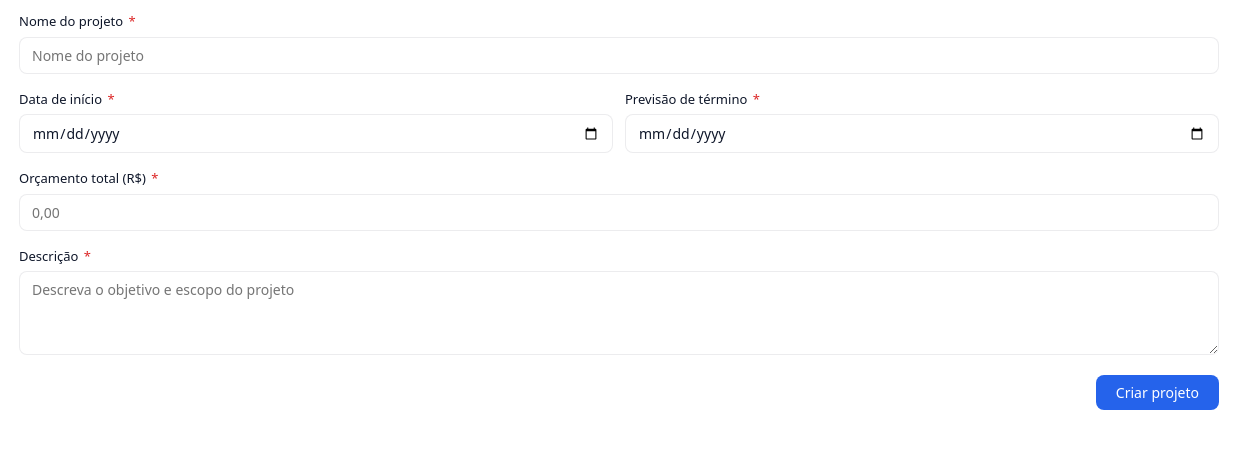
ProjectForm › exibe erro quando a data de término é anterior à data de início
The width and height of the screenshot is (1239, 451).
In the field labelled "Nome do projeto *": x=619, y=55 [19,36,1219,74], type "Projeto Teste"
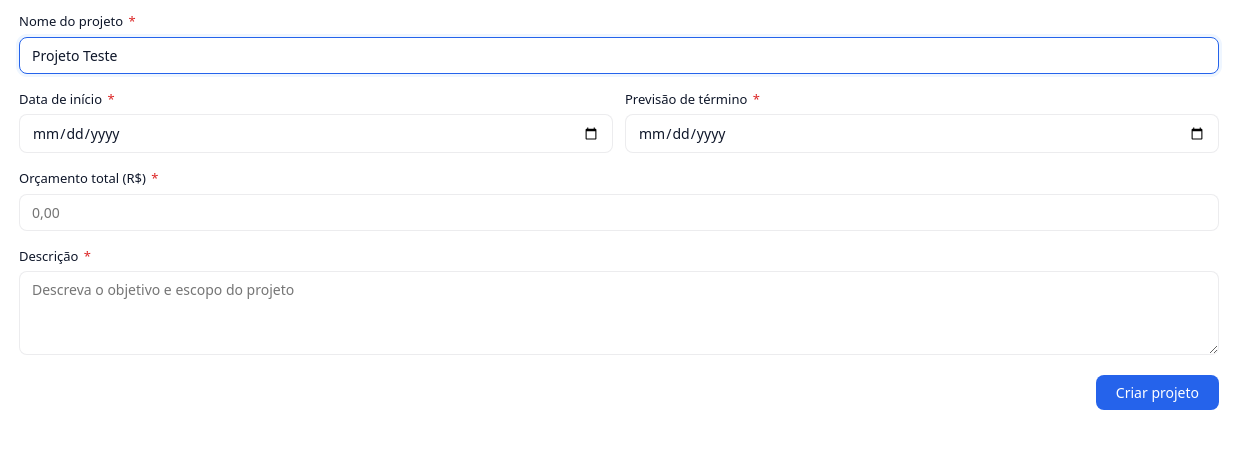
In the date field labelled "Data de início *": x=316, y=134 [19,114,613,153], type "2024-06-01"
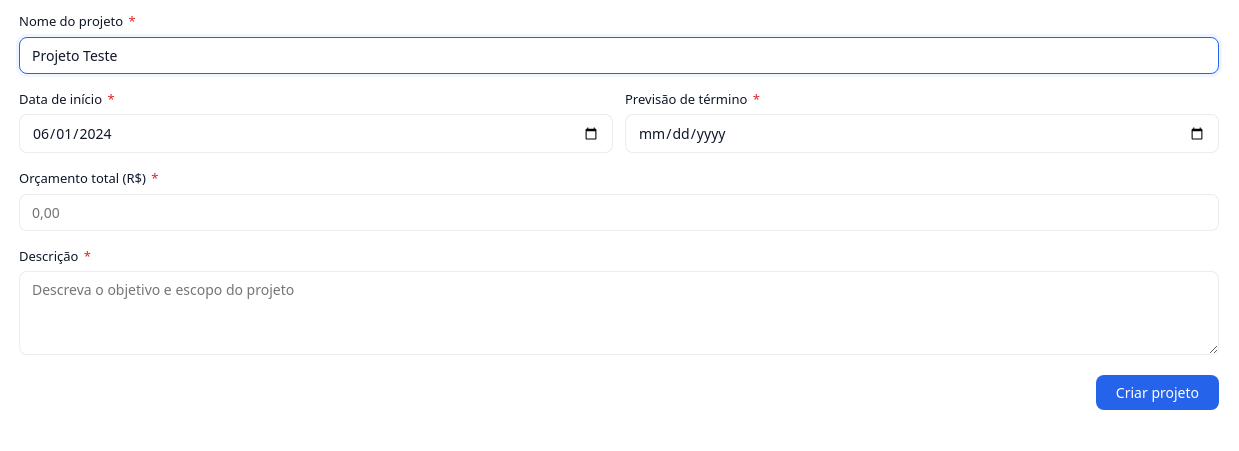
In the date field labelled "Previsão de término *": x=922, y=134 [625,114,1219,153], type "2024-01-01"
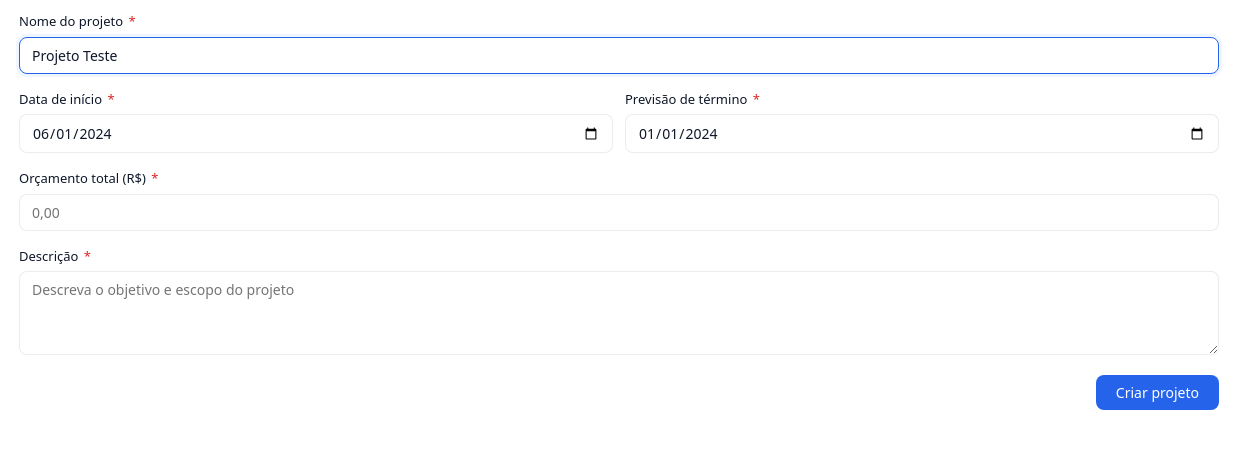
In the number field labelled "Orçamento total (R$) *": x=619, y=212 [19,194,1219,230], type "100000"
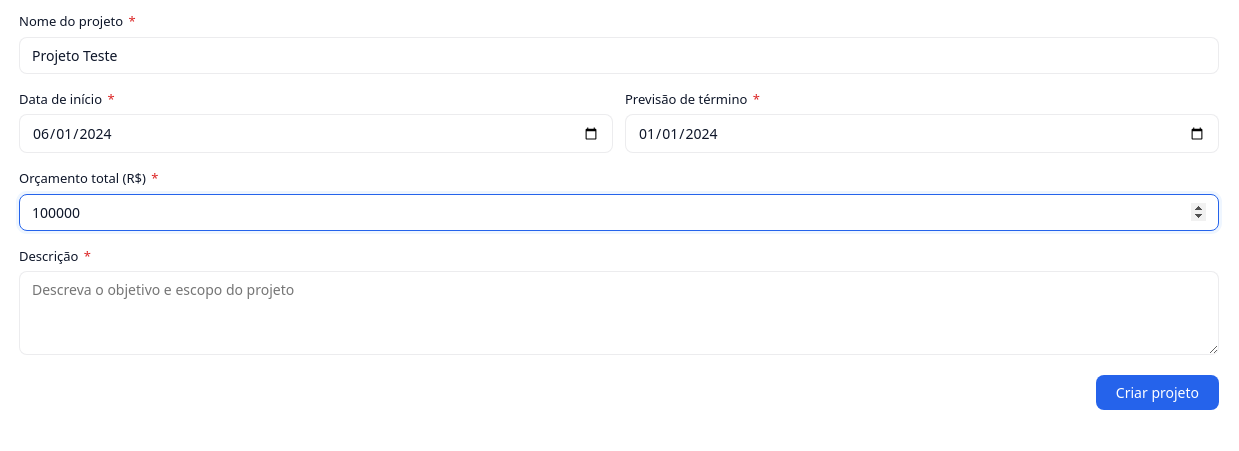
In the text box labelled "Descrição *": x=619, y=313 [19,271,1219,355], type "Descrição válida"
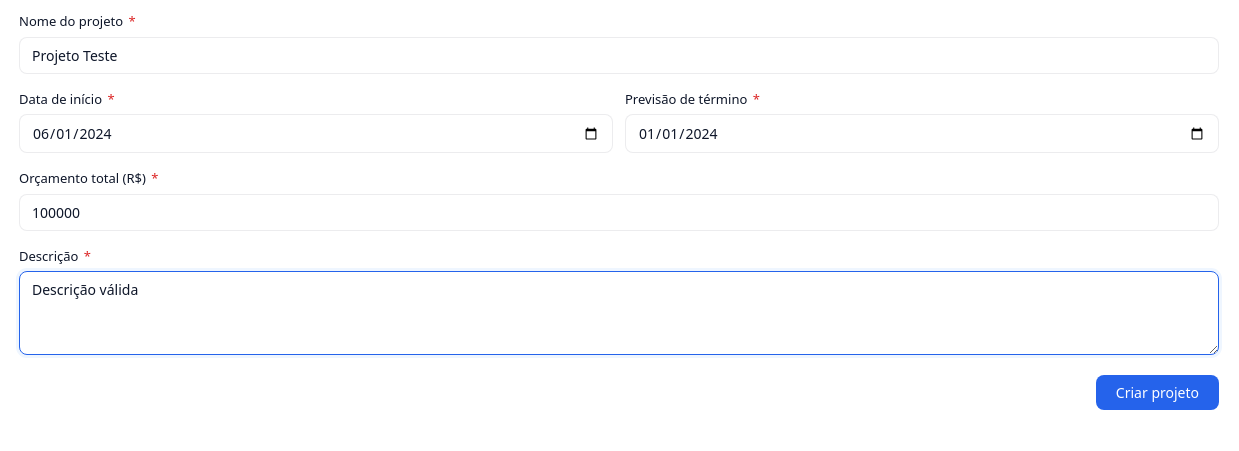
Click the button "Criar projeto": x=1157, y=392 [1096,375,1219,410]
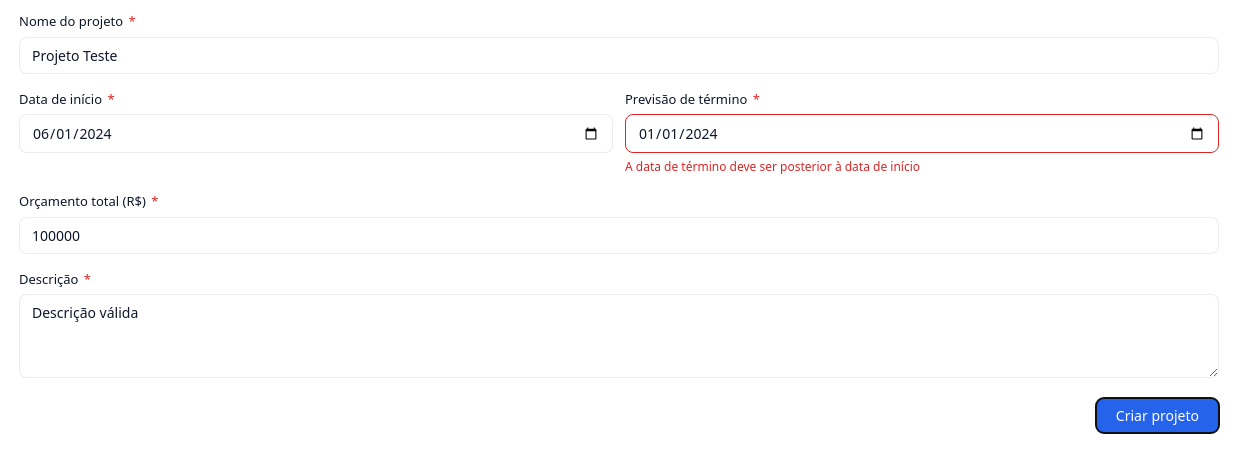
Now the text "A data de término deve ser posterior à data de início" is shown, box [625,158,920,175]
